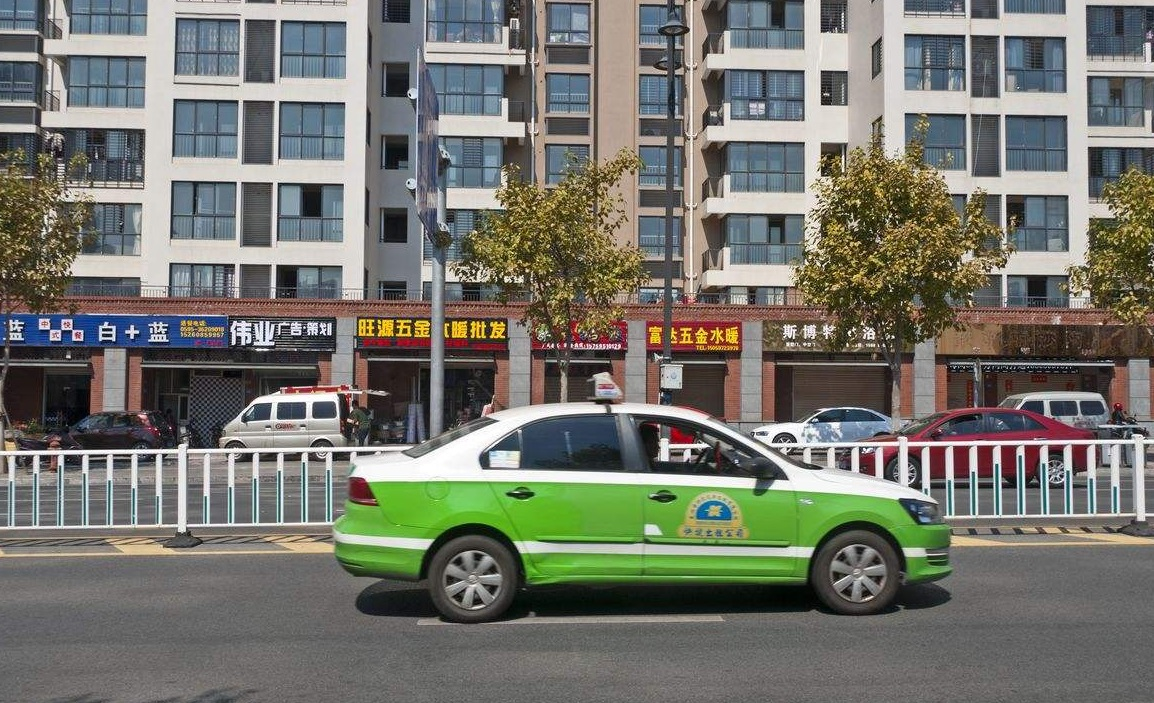taxi: (332, 370, 955, 620)
